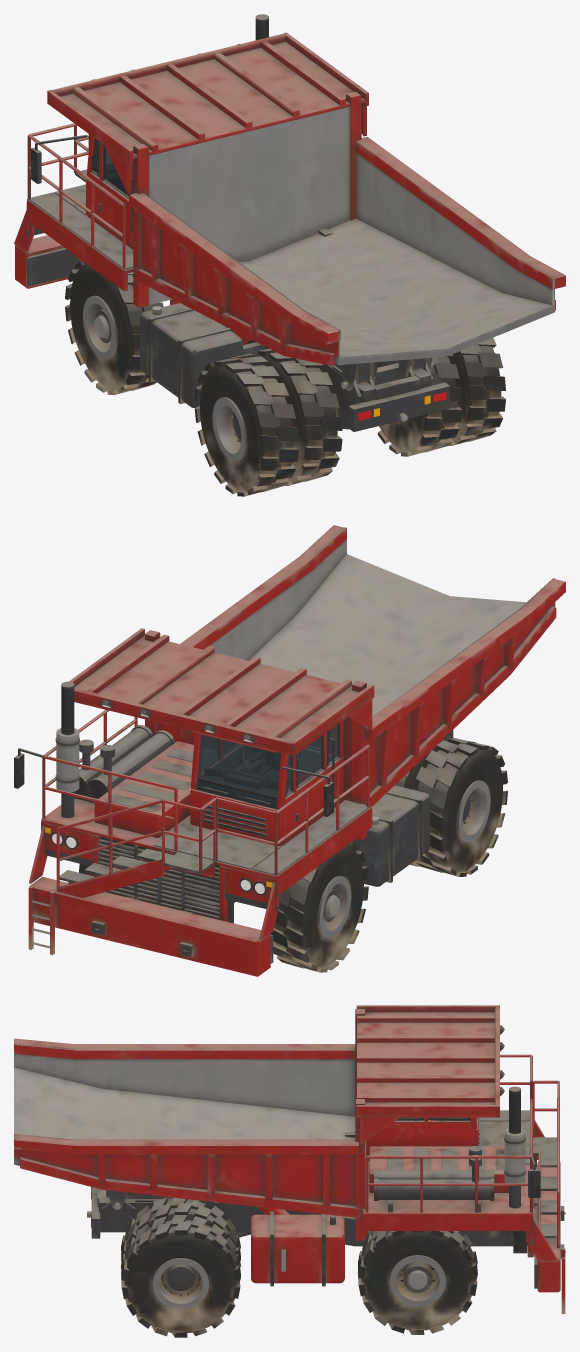
Rendered from rigid-hauler.glb.
3 views of the same model, one above another, from view 1: azimuth 30°, elevation 25°; view 2: azimuth 150°, elevation 25°; view 3: azimuth 270°, elevation 25° (orthographic). The views are drawn at different scales.
Parts seen in each view (by area): view 1: Bed, Chassis, Wheel_RL, Wheel_FL, Wheel_RR, Cab, Glass; view 2: Bed, Chassis, Wheel_RL, Wheel_FL, Cab, Glass, CabInterior, Seats; view 3: Bed, Chassis, Wheel_RR, Wheel_FR, Cab.
Part boxes in pixels (x1,y1,x2,y2): Bed: (47, 32, 565, 390); Chassis: (14, 14, 449, 431); Wheel_RL: (194, 348, 342, 496); Wheel_FL: (65, 261, 163, 395); Wheel_RR: (377, 338, 505, 456); Cab: (86, 135, 133, 249); Glass: (92, 138, 129, 196); Bed: (69, 525, 565, 840); Chassis: (14, 681, 453, 976); Wheel_RL: (395, 736, 507, 876); Wheel_FL: (270, 842, 368, 972); Cab: (190, 720, 343, 846); Glass: (196, 724, 337, 808); CabInterior: (196, 735, 335, 809); Seats: (240, 747, 301, 792); Bed: (14, 1005, 504, 1240); Chassis: (87, 1054, 565, 1313); Wheel_RR: (121, 1197, 240, 1337); Wheel_FR: (357, 1231, 477, 1334); Cab: (366, 1117, 479, 1161).
Bounding box in the file's own units: 4.8 × 4.4 × 9.09.
2 materials, 1 textured.
